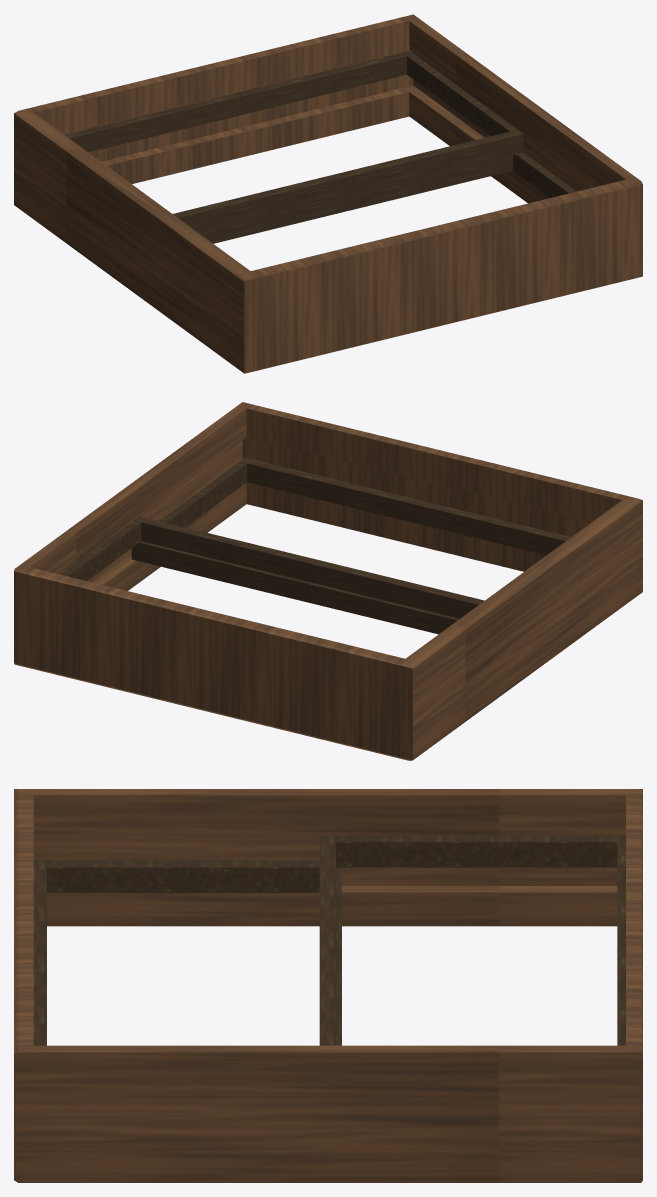
File: window1.fbx
3 views of the same model, one above another, from view 1: azimuth 30°, elevation 25°; view 2: azimuth 150°, elevation 25°; view 3: azimuth 270°, elevation 25° (orthographic). The views are drawn at different scales.
Visible parts, largest first — view 1: WindowFrame.001, WindowTop.001, WindowBottom.001; view 2: WindowFrame.001, WindowBottom.001, WindowTop.001; view 3: WindowFrame.001, WindowTop.001, WindowBottom.001.
Boxes of the visible parts, x1=… form: WindowFrame.001: x1=14, y1=14, x2=642, y2=373; WindowTop.001: x1=65, y1=50, x2=523, y2=231; WindowBottom.001: x1=197, y1=152, x2=576, y2=243; WindowFrame.001: x1=14, y1=402, x2=642, y2=760; WindowBottom.001: x1=131, y1=457, x2=571, y2=634; WindowTop.001: x1=60, y1=516, x2=484, y2=618; WindowFrame.001: x1=14, y1=789, x2=642, y2=1182; WindowTop.001: x1=319, y1=835, x2=625, y2=1045; WindowBottom.001: x1=33, y1=860, x2=341, y2=1045.
Bounding box in the file's own units: 200 × 45.87 × 200.
